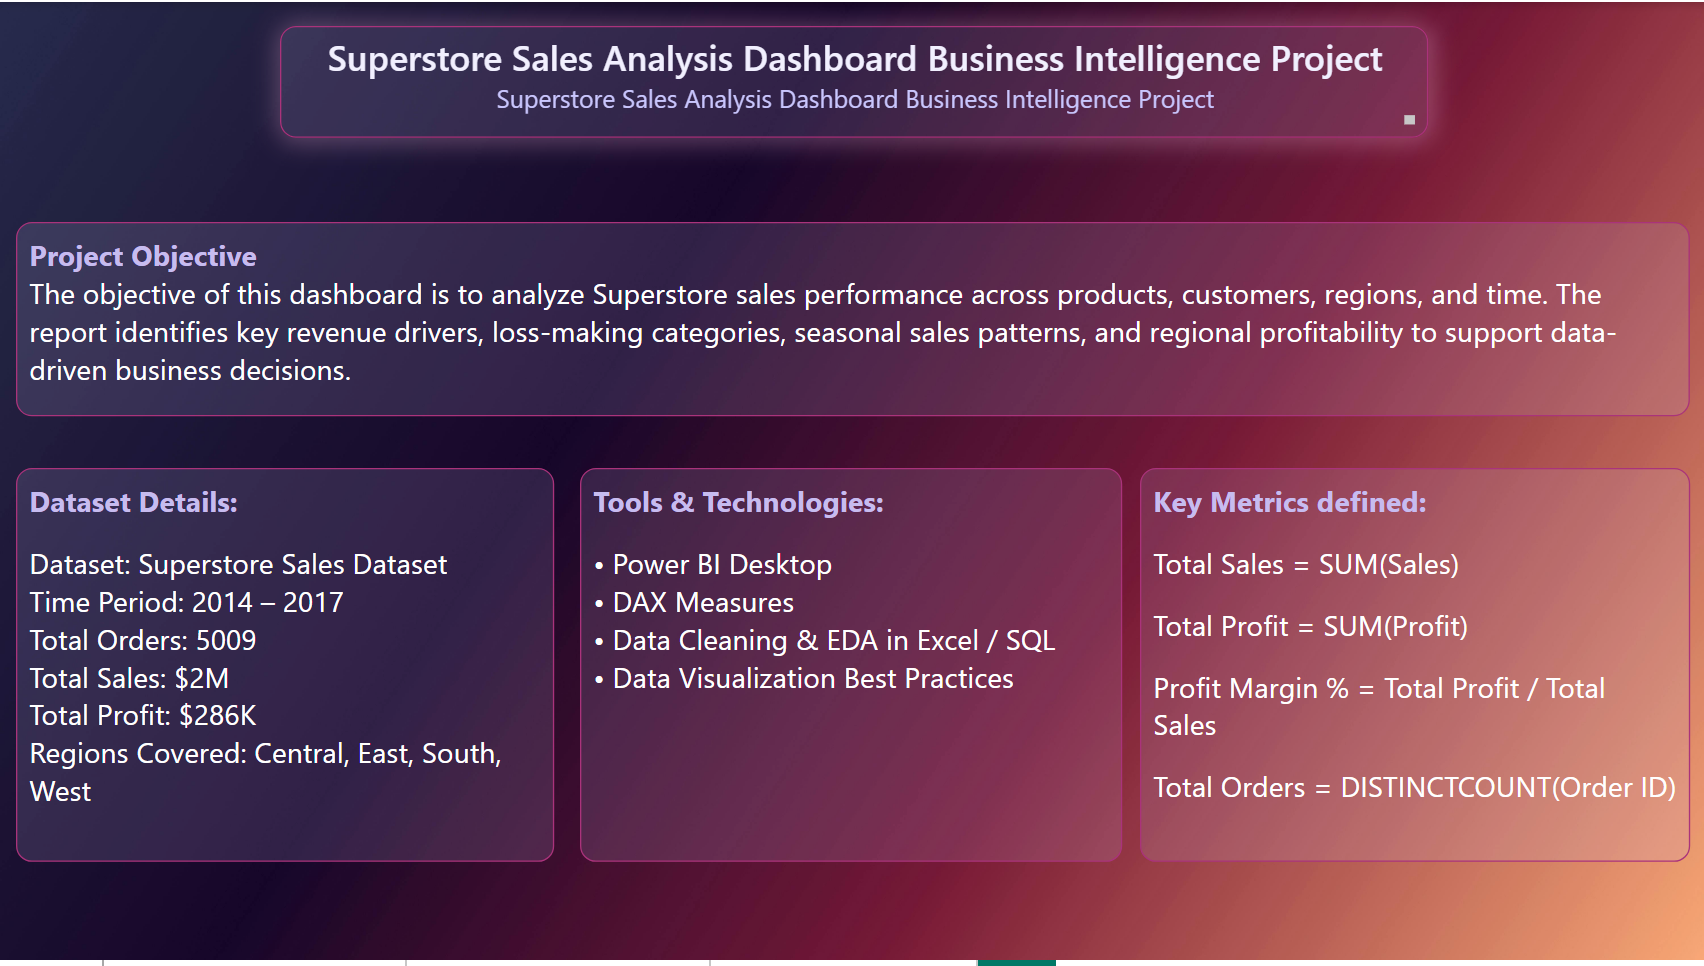

The dashboard page shown, as its layout file describes it:
{"tool":"powerbi","page":{"name":"Project Overview","canvas":[1280,720],"ordinal":2},"visuals":[{"type":"textbox","title":"Superstore Sales Analysis Dashboard Business Intelligence Project","box":[210.4,18,862.8,84.2],"z":0},{"type":"textbox","box":[12,165.3,1258.1,145.8],"z":1},{"type":"textbox","box":[12,350.2,404.3,296.1],"z":2},{"type":"textbox","box":[435.9,350.2,407.3,296.1],"z":3},{"type":"textbox","box":[856.8,350.2,413.4,296.1],"z":4}]}

Visuals, with their boxes in screenshot pixels (x1, y1, x2, y2), scaled from the page's 1280x720 canvas onto the 1704x966 screenshot:
"Superstore Sales Analysis Dashboard Business Intelligence Project" textbox: <bbox>280, 24, 1429, 137</bbox>
textbox: <bbox>16, 222, 1691, 417</bbox>
textbox: <bbox>16, 470, 554, 867</bbox>
textbox: <bbox>580, 470, 1123, 867</bbox>
textbox: <bbox>1141, 470, 1691, 867</bbox>
